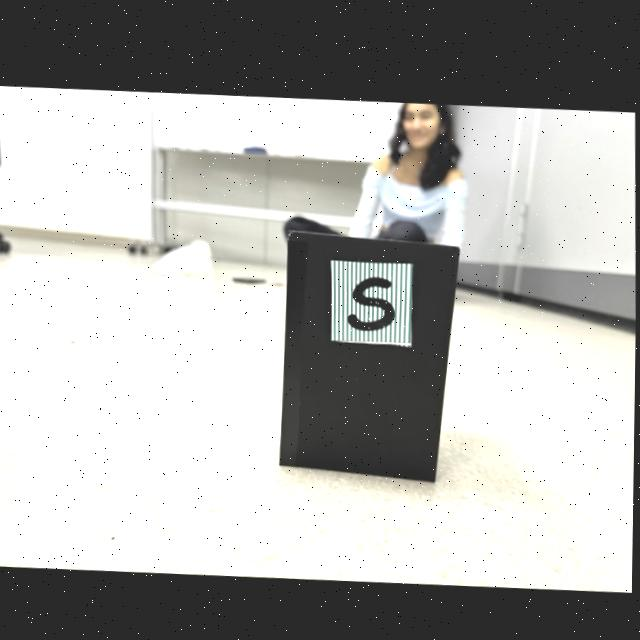S: (348, 272, 394, 324)
